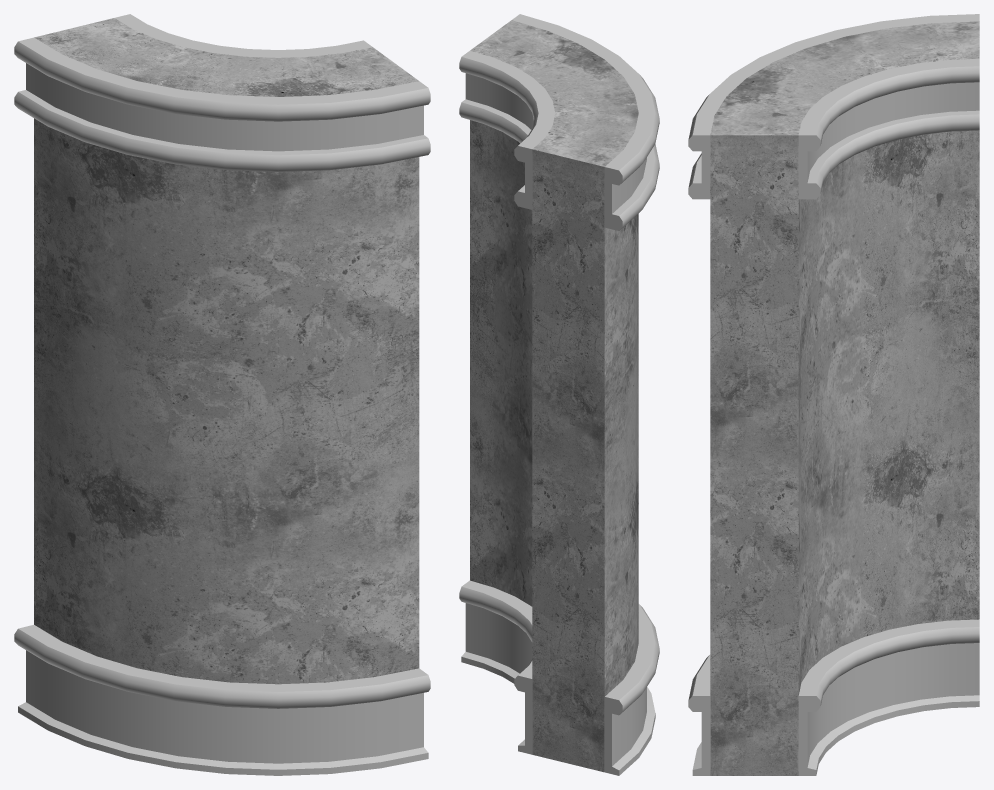
Rendered from SM_Wallkit_Round_01a.fbx.
The picture shows the model from 3 angles, left to right: view 1: azimuth 30°, elevation 25°; view 2: azimuth 150°, elevation 25°; view 3: azimuth 270°, elevation 25°; orthographic projection. The views are drawn at different scales.
Visible parts, largest first — view 1: SM_Wallkit_Round_01a_LOD0; view 2: SM_Wallkit_Round_01a_LOD0; view 3: SM_Wallkit_Round_01a_LOD0.
Boxes of the visible parts, x1,y1,x2,y2 form: SM_Wallkit_Round_01a_LOD0: (14, 14, 430, 775); SM_Wallkit_Round_01a_LOD0: (459, 14, 659, 775); SM_Wallkit_Round_01a_LOD0: (688, 14, 979, 775).
Bounding box in the file's own units: 329 × 329 × 800.
